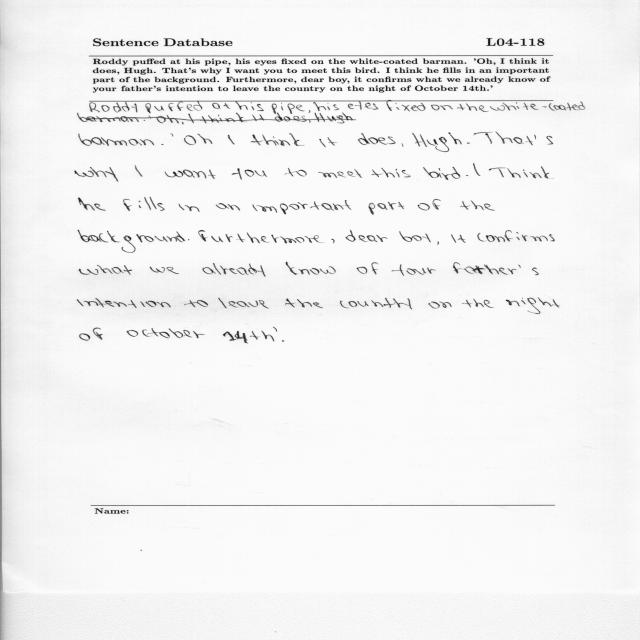word: (77, 102, 356, 125), (78, 230, 185, 253), (199, 230, 322, 244), (253, 200, 352, 215), (453, 262, 539, 275), (412, 133, 462, 152), (77, 298, 171, 308), (477, 230, 555, 242), (79, 134, 154, 146), (202, 263, 266, 277), (506, 298, 560, 314), (340, 298, 412, 309), (489, 166, 549, 179), (127, 328, 205, 338), (474, 132, 533, 145), (251, 133, 305, 146), (286, 262, 336, 275), (75, 167, 118, 182), (223, 331, 274, 343), (123, 197, 165, 211), (523, 102, 585, 111), (79, 265, 132, 275), (392, 264, 436, 276), (345, 230, 388, 242), (165, 169, 216, 179), (218, 298, 269, 308), (423, 167, 460, 180), (369, 202, 405, 215), (358, 133, 396, 145), (232, 168, 267, 180), (318, 169, 362, 178), (460, 200, 495, 211), (285, 298, 323, 308), (79, 197, 106, 211), (399, 232, 431, 243), (372, 168, 411, 177), (80, 328, 103, 341), (462, 299, 494, 308), (418, 199, 441, 210), (357, 263, 378, 275), (150, 267, 179, 274), (216, 203, 240, 211), (534, 135, 553, 145), (355, 102, 378, 110), (284, 168, 307, 176), (319, 137, 337, 147), (466, 104, 488, 112), (179, 204, 200, 212), (184, 300, 208, 307), (428, 302, 452, 309), (440, 104, 465, 110), (503, 102, 519, 111), (198, 134, 212, 144), (451, 234, 466, 243), (184, 135, 196, 145), (411, 103, 425, 111), (473, 163, 480, 176), (490, 105, 505, 111), (135, 165, 142, 177), (228, 135, 235, 144), (401, 105, 410, 111), (431, 105, 439, 111), (387, 102, 392, 111), (396, 103, 400, 110), (273, 327, 277, 332), (331, 239, 335, 243), (171, 133, 174, 137), (402, 143, 404, 147), (437, 241, 439, 245), (467, 142, 470, 144), (282, 340, 284, 342), (162, 144, 164, 145), (466, 175, 468, 176), (188, 239, 189, 240)
